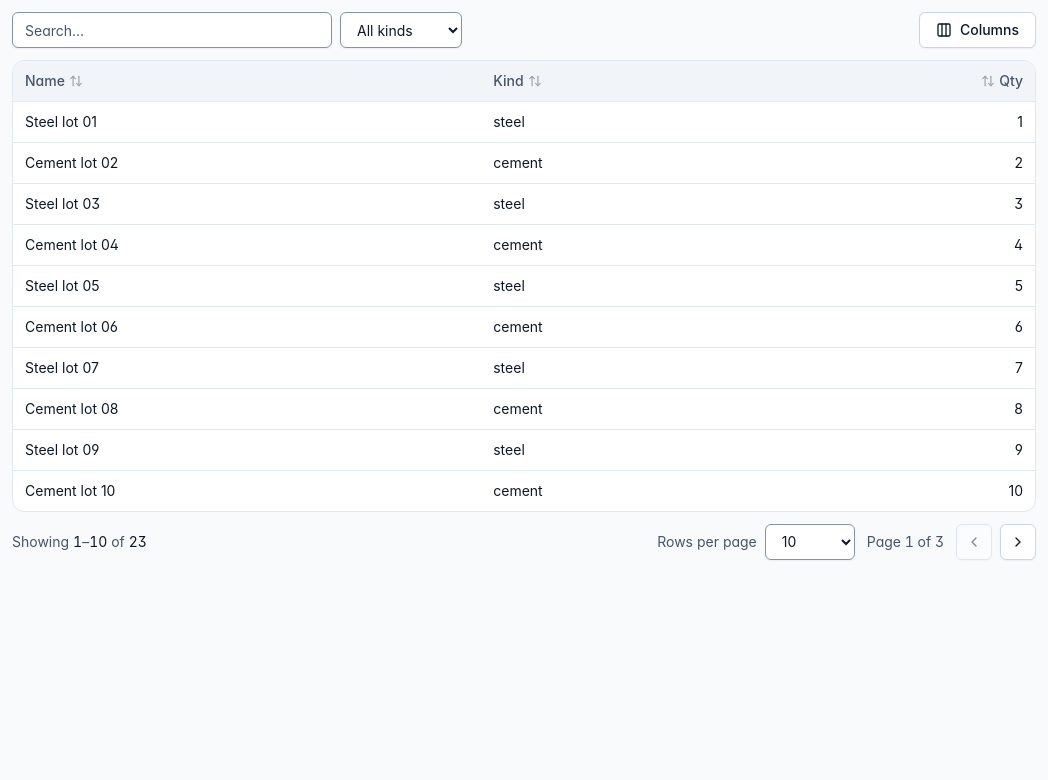
Test case: DataTable › hides a column from the column chooser, but never the last one
Click the button "Columns" at (977, 30), box x1=919 y1=12 x2=1036 y2=48
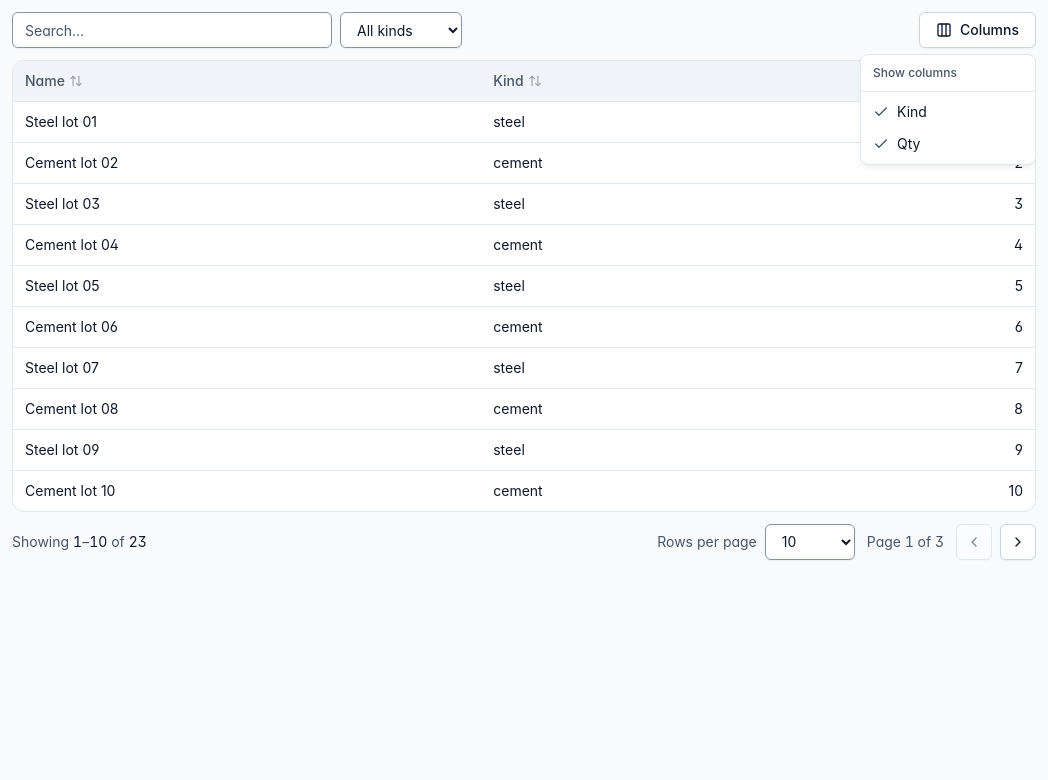
Click the menu item "Qty" at (897, 144), box x1=873 y1=135 x2=920 y2=152
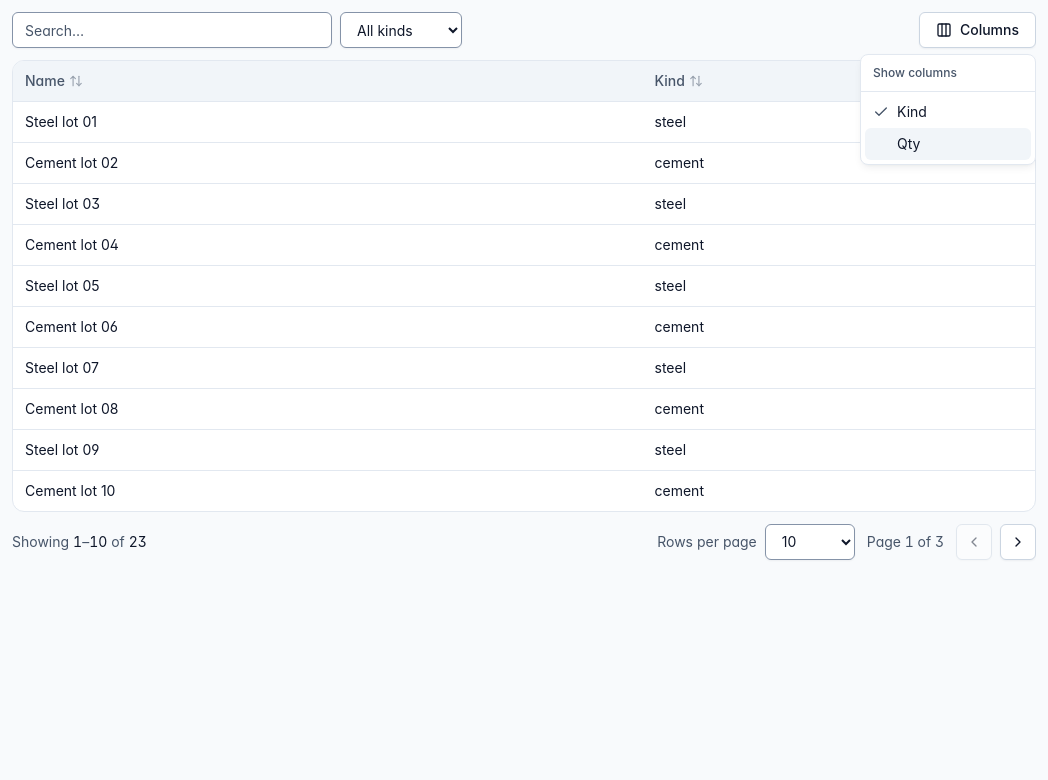
Press Escape
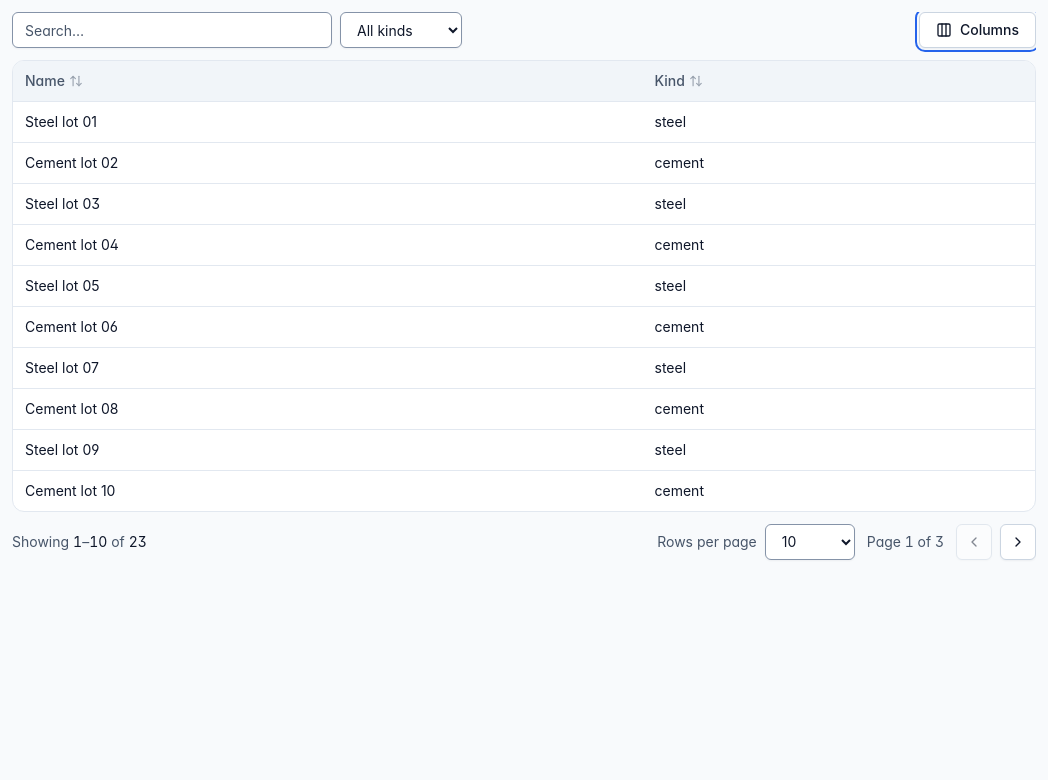
Expected: the column heading "Kind" is shown, x1=642 y1=61 x2=1035 y2=101
Expected: the menu item "Qty" is gone
